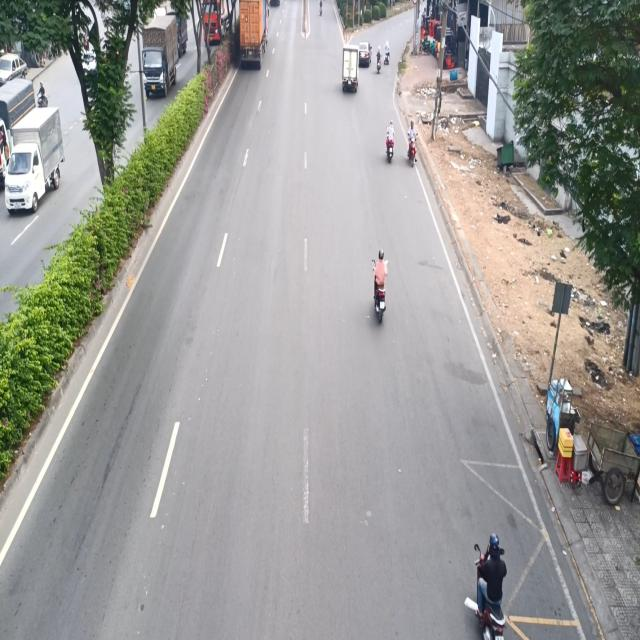motor: (469, 529, 512, 640), (371, 242, 391, 334), (382, 118, 396, 179), (407, 118, 421, 167), (376, 39, 382, 75)
truck: (236, 0, 273, 78), (342, 44, 361, 96)
